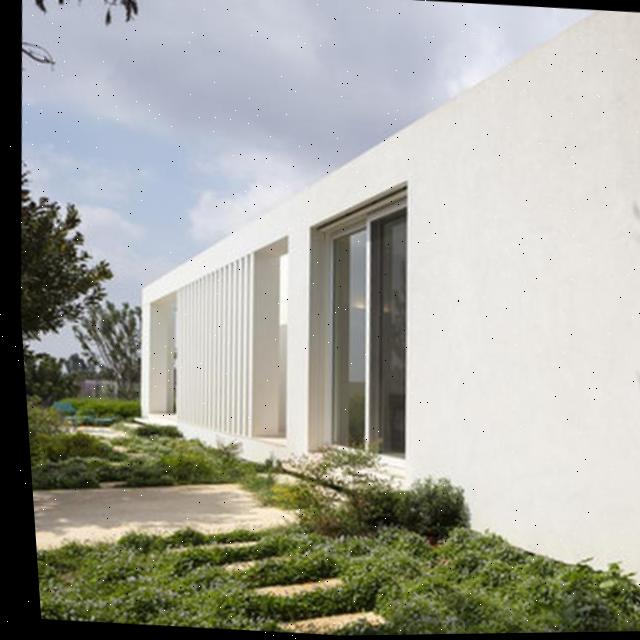building: (102, 0, 640, 597)
